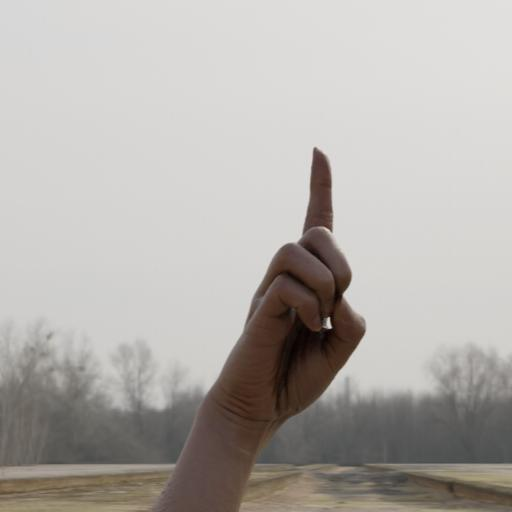D: (191, 142, 374, 434)
